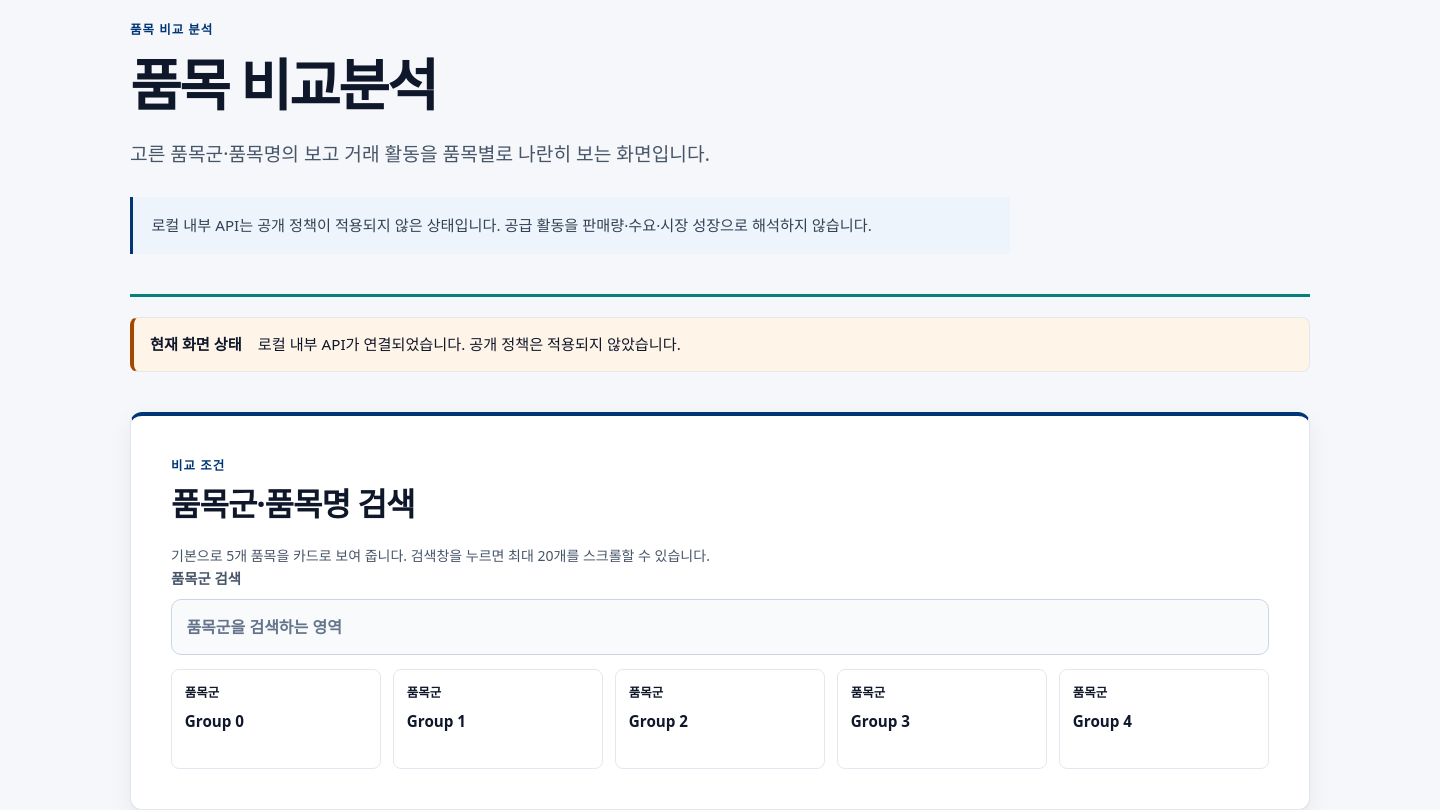
Scenario: Class 2 API mode UI › clamps a long mart period to 36 months so comparison stays runnable
This screenshot has width=1440, height=810.
What coordinates should you click on to do the following:
click the button "품목군 Group 0"
I would click on:
 (276, 719)
Its box is 171,669 -> 381,769.
(page scrolled)
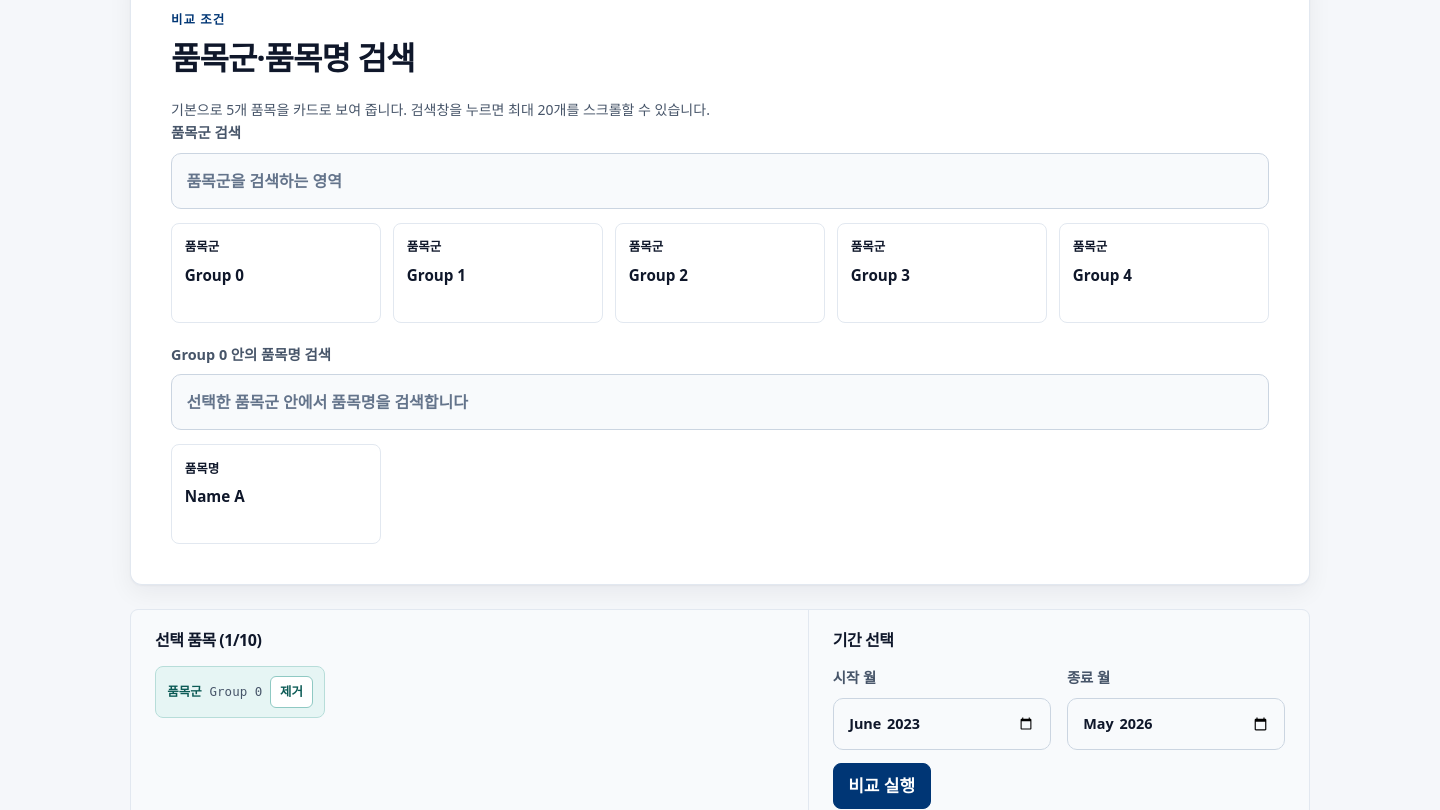
Now the button "비교 실행" is enabled, box 833,763 -> 931,809
